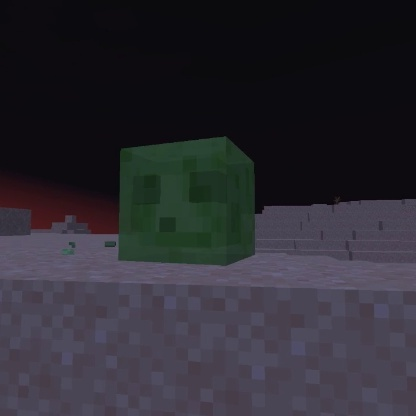slime: (113, 131, 260, 269)
